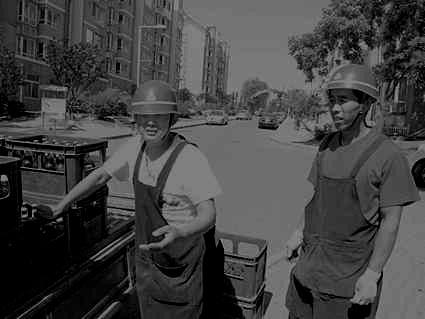helmet: (325, 63, 380, 131), (126, 79, 182, 143)
